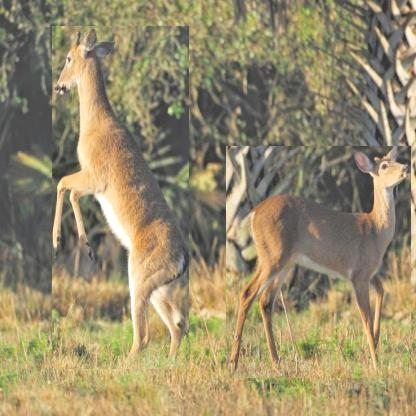Deer: (52, 26, 189, 369), (226, 146, 411, 378)
